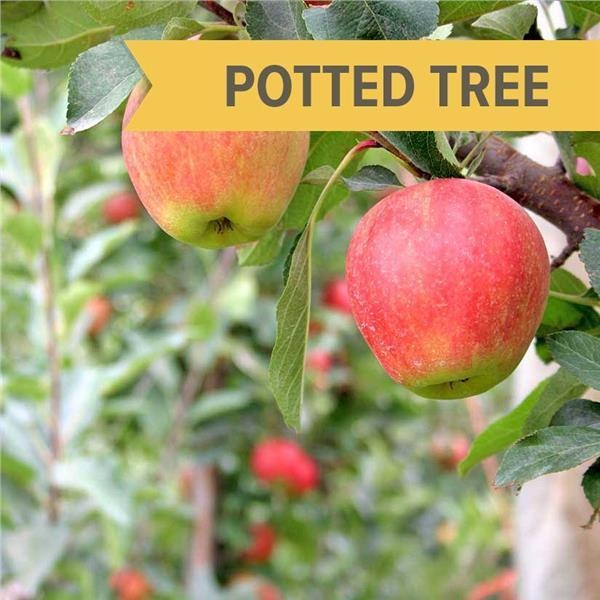apple: (344, 188, 550, 399), (122, 123, 307, 250)
